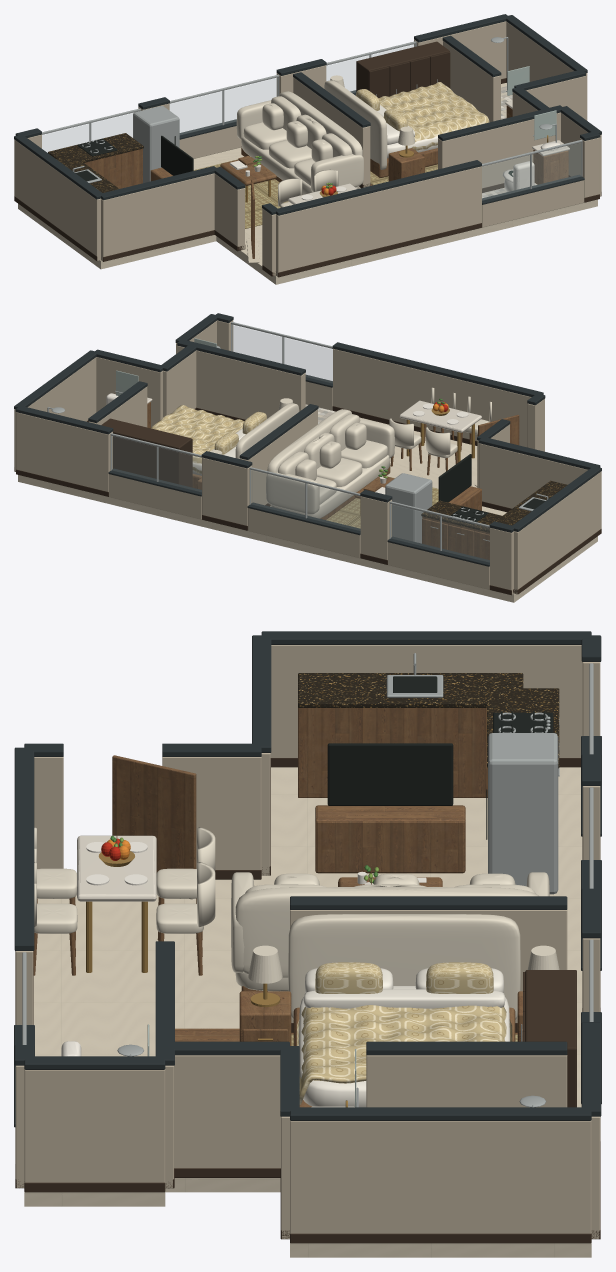
The model's file is aristo-01.glb.
The picture shows the model from 3 angles, top to bottom: view 1: azimuth 30°, elevation 25°; view 2: azimuth 150°, elevation 25°; view 3: azimuth 270°, elevation 25°; orthographic projection. The views are drawn at different scales.
Visible parts, largest first — view 1: Ivory masonry.008, Ivory masonry.005, Apartment foundation, Ivory masonry.004, Ivory masonry.018, Soft jacquard duvet with folds.003, Cutaway window glazing.002, Cutaway window glazing.001, Window sill.002, Ivory masonry.015, Brushed refrigerator, Ivory masonry.014 (+60 smaller); view 2: Ivory masonry.008, Apartment foundation, Ivory masonry, Ivory masonry.018, Ivory masonry.004, Ivory masonry.005, Dark fitted wardrobe, Cutaway window glazing.001, Cutaway window glazing.003, Cutaway window glazing, Cutaway window glazing.002, Ivory masonry.001 (+56 smaller); view 3: Apartment foundation, Ivory masonry.014, Ivory masonry.010, Padded headboard.003, Ivory masonry.004, Ivory masonry.012, Ivory masonry.015, Brushed refrigerator, Kitchen cabinetry.001, Walnut television console, Soft jacquard duvet with folds.003, Television.001 (+48 smaller).
Boxes of the visible parts, bbox=[...] form: Ivory masonry.008: bbox=[276, 166, 481, 276]; Ivory masonry.005: bbox=[101, 173, 214, 261]; Apartment foundation: bbox=[18, 83, 597, 284]; Ivory masonry.004: bbox=[14, 139, 100, 260]; Ivory masonry.018: bbox=[438, 114, 560, 188]; Soft jacquard duvet with folds.003: bbox=[378, 82, 489, 150]; Cutaway window glazing.002: bbox=[482, 143, 581, 200]; Cutaway window glazing.001: bbox=[170, 78, 277, 134]; Window sill.002: bbox=[482, 180, 584, 227]; Ivory masonry.015: bbox=[443, 41, 500, 122]; Brushed refrigerator: bbox=[133, 106, 179, 183]; Ivory masonry.014: bbox=[506, 21, 587, 120]; Ivory masonry.008: bbox=[333, 348, 531, 447]; Apartment foundation: bbox=[18, 417, 597, 602]; Ivory masonry: bbox=[16, 412, 112, 491]; Ivory masonry.018: bbox=[178, 346, 305, 419]; Ivory masonry.004: bbox=[514, 471, 601, 593]; Ivory masonry.005: bbox=[479, 443, 587, 508]; Dark fitted wardrobe: bbox=[101, 418, 191, 487]; Cutaway window glazing.001: bbox=[251, 470, 360, 530]; Cutaway window glazing.003: bbox=[391, 504, 489, 562]; Cutaway window glazing: bbox=[112, 436, 201, 491]; Cutaway window glazing.002: bbox=[232, 325, 332, 383]; Ivory masonry.001: bbox=[202, 457, 252, 525]; Apartment foundation: bbox=[24, 767, 591, 1257]; Ivory masonry.014: bbox=[290, 1120, 591, 1233]; Ivory masonry.010: bbox=[24, 1069, 165, 1182]; Padded headboard.003: bbox=[288, 914, 520, 1019]; Ivory masonry.004: bbox=[270, 645, 582, 757]; Ivory masonry.012: bbox=[174, 1055, 280, 1168]; Ivory masonry.015: bbox=[366, 1055, 567, 1107]; Brushed refrigerator: bbox=[488, 733, 558, 894]; Kitchen cabinetry.001: bbox=[298, 708, 487, 797]; Walnut television console: bbox=[315, 805, 465, 873]; Soft jacquard duvet with folds.003: bbox=[297, 1005, 512, 1104]; Television.001: bbox=[327, 743, 453, 805].
Bounding box in the file's own units: 9.31 × 1.37 × 4.78.
24 materials, 6 textured.
